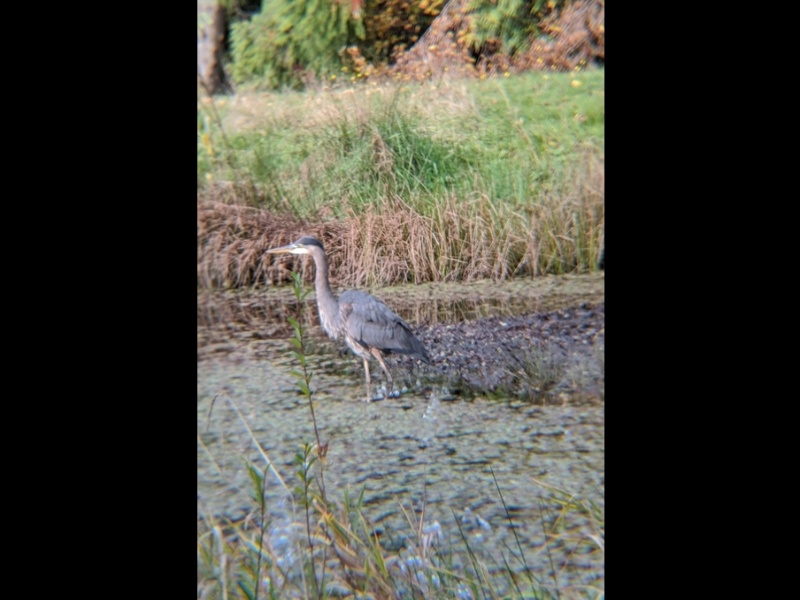heron: (266, 235, 431, 397)
